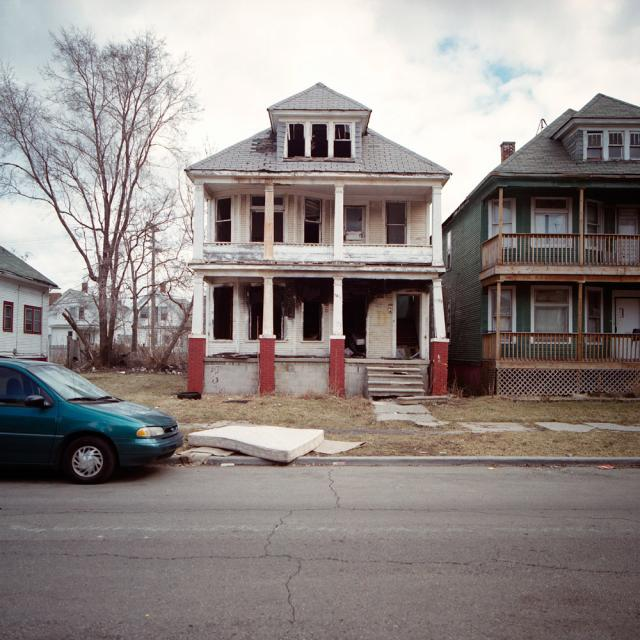House: (183, 82, 449, 406), (443, 94, 640, 398), (0, 242, 59, 362)
